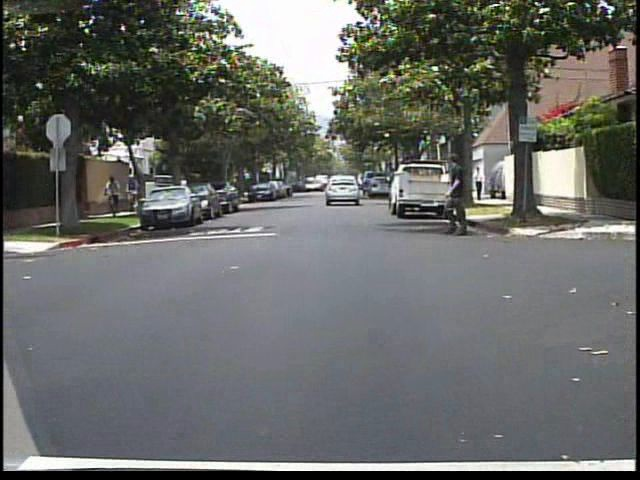person: (434, 153, 483, 236), (103, 171, 126, 215), (123, 169, 147, 206), (175, 171, 193, 209), (474, 163, 487, 203)
